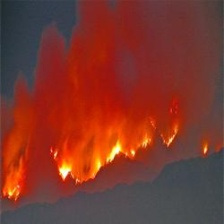fire: (2, 126, 190, 199)
